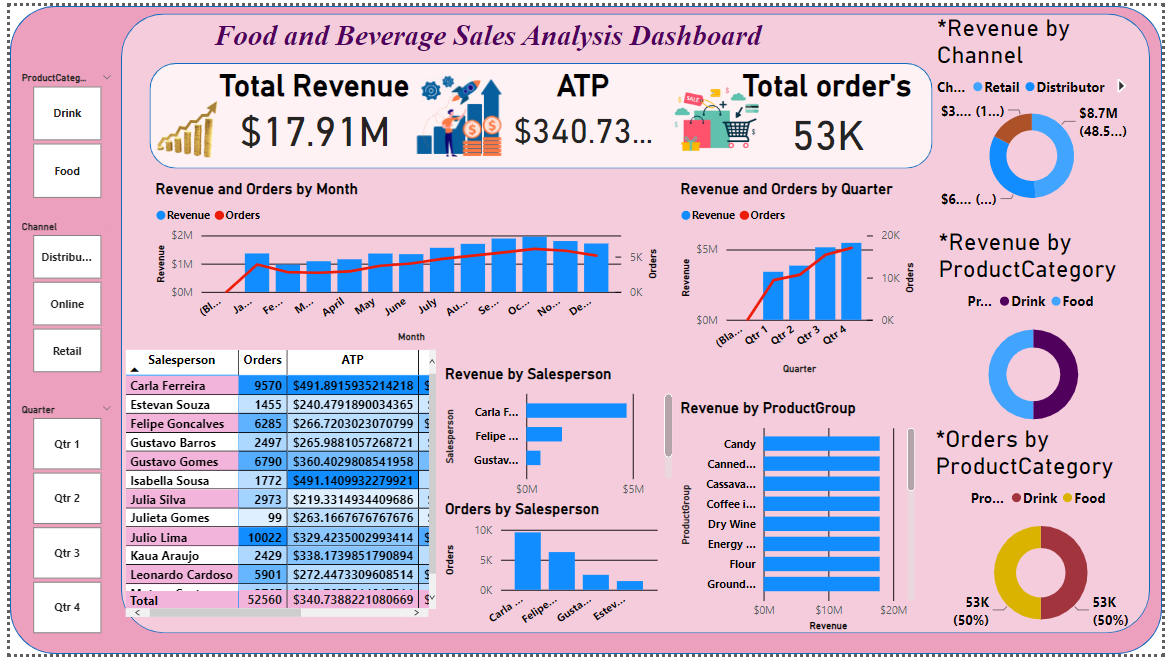

What the dashboard file says about the page in this screenshot:
{"tool":"powerbi","page":{"name":"Page 2","canvas":[1280,720],"ordinal":1},"visuals":[{"type":"shape","box":[0,0,1280,720],"z":0},{"type":"shape","box":[123.3,8.3,1143.3,688.3],"z":1000},{"type":"shape","box":[155,62.5,870,117.5],"z":2000},{"type":"card","title":"Total Revenue","fields":{"Values":["Product.Revenue"]},"box":[224,68,230,94],"z":3000},{"type":"card","title":"ATP","fields":{"Values":["Product.ATP"]},"box":[548,68,176,94],"z":4000},{"type":"card","title":"Total order''s","fields":{"Values":["Product.Orders"]},"box":[756,68,302,102],"z":5000},{"type":"donutChart","title":"*Revenue by Channel","fields":{"Y":["Product.Revenue"],"Category":["Sheet1.Channel"]},"box":[1025,8.3,220,225],"z":6000},{"type":"donutChart","title":"*Revenue by ProductCategory","fields":{"Y":["Product.Revenue"],"Category":["Product.ProductCategory"]},"box":[1026.7,246.7,220,234],"z":7000},{"type":"donutChart","title":"*Orders by ProductCategory","fields":{"Category":["Product.ProductCategory"],"Y":["Product.Orders"]},"box":[1023.3,465,243.3,238],"z":8000},{"type":"lineStackedColumnComboChart","fields":{"Y":["Product.Revenue"],"Category":["Sheet1.OrderDate.Variation.Date Hierarchy.Quarter"],"Y2":["Product.Orders"]},"box":[740,194,270,220],"z":9000},{"type":"barChart","fields":{"Y":["Product.Revenue"],"Category":["Product.ProductGroup"]},"box":[740,436,270,262],"z":10000},{"type":"lineStackedColumnComboChart","fields":{"Y":["Product.Revenue"],"Y2":["Product.Orders"],"Category":["Sheet1.OrderDate.Variation.Date Hierarchy.Month"]},"box":[156,194,568,184],"z":11000},{"type":"barChart","fields":{"Y":["Product.Revenue"],"Category":["Sheet1.Salesperson"]},"box":[478,398,262,156],"z":12000},{"type":"columnChart","fields":{"Y":["Product.Orders"],"Category":["Sheet1.Salesperson"]},"box":[478,548,246,150],"z":13000},{"type":"pivotTable","fields":{"Rows":["Sheet1.Salesperson"],"Values":["Product.Orders","Product.ATP","Product.Revenue"]},"box":[123.3,376.7,355,306.7],"z":14000},{"type":"slicer","fields":{"Values":["Product.ProductCategory"]},"box":[0,68.3,125,151.7],"z":15000},{"type":"slicer","fields":{"Values":["Sheet1.Channel"]},"box":[0,233.3,125,180],"z":16000},{"type":"slicer","fields":{"Values":["Sheet1.OrderDate.Variation.Date Hierarchy.Quarter"]},"box":[0,436.7,125,266.7],"z":17000},{"type":"textbox","box":[125.7,8.6,811.4,95.7],"z":18000},{"type":"image","box":[94,92,206,96],"z":19000},{"type":"image","box":[360,56,276,132],"z":20000},{"type":"image","box":[724,58,118,126],"z":20001}]}

Visuals, with their boxes in screenshot pixels (x1, y1, x2, y2), scaled from the page's 1280x720 canvas onto the 1167x662 screenshot:
shape: (left=0, top=0, right=1166, bottom=661)
shape: (left=112, top=8, right=1155, bottom=640)
shape: (left=141, top=57, right=935, bottom=166)
"Total Revenue" card: (left=204, top=63, right=414, bottom=149)
"ATP" card: (left=500, top=63, right=660, bottom=149)
"Total order''s" card: (left=689, top=63, right=965, bottom=156)
"*Revenue by Channel" donutChart: (left=935, top=8, right=1135, bottom=215)
"*Revenue by ProductCategory" donutChart: (left=936, top=227, right=1137, bottom=442)
"*Orders by ProductCategory" donutChart: (left=933, top=428, right=1155, bottom=646)
lineStackedColumnComboChart - Product.Revenue x Sheet1.OrderDate.Variation.Date Hierarchy.Quarter: (left=675, top=178, right=921, bottom=381)
barChart - Product.Revenue x Product.ProductGroup: (left=675, top=401, right=921, bottom=642)
lineStackedColumnComboChart - Product.Revenue x Product.Orders: (left=142, top=178, right=660, bottom=348)
barChart - Product.Revenue x Sheet1.Salesperson: (left=436, top=366, right=675, bottom=509)
columnChart - Product.Orders x Sheet1.Salesperson: (left=436, top=504, right=660, bottom=642)
pivotTable - Sheet1.Salesperson x Product.Orders: (left=112, top=346, right=436, bottom=628)
slicer - Product.ProductCategory: (left=0, top=63, right=114, bottom=202)
slicer - Sheet1.Channel: (left=0, top=215, right=114, bottom=380)
slicer - Sheet1.OrderDate.Variation.Date Hierarchy.Quarter: (left=0, top=402, right=114, bottom=647)
textbox: (left=115, top=8, right=854, bottom=96)
image: (left=86, top=85, right=274, bottom=173)
image: (left=328, top=51, right=580, bottom=173)
image: (left=660, top=53, right=768, bottom=169)
